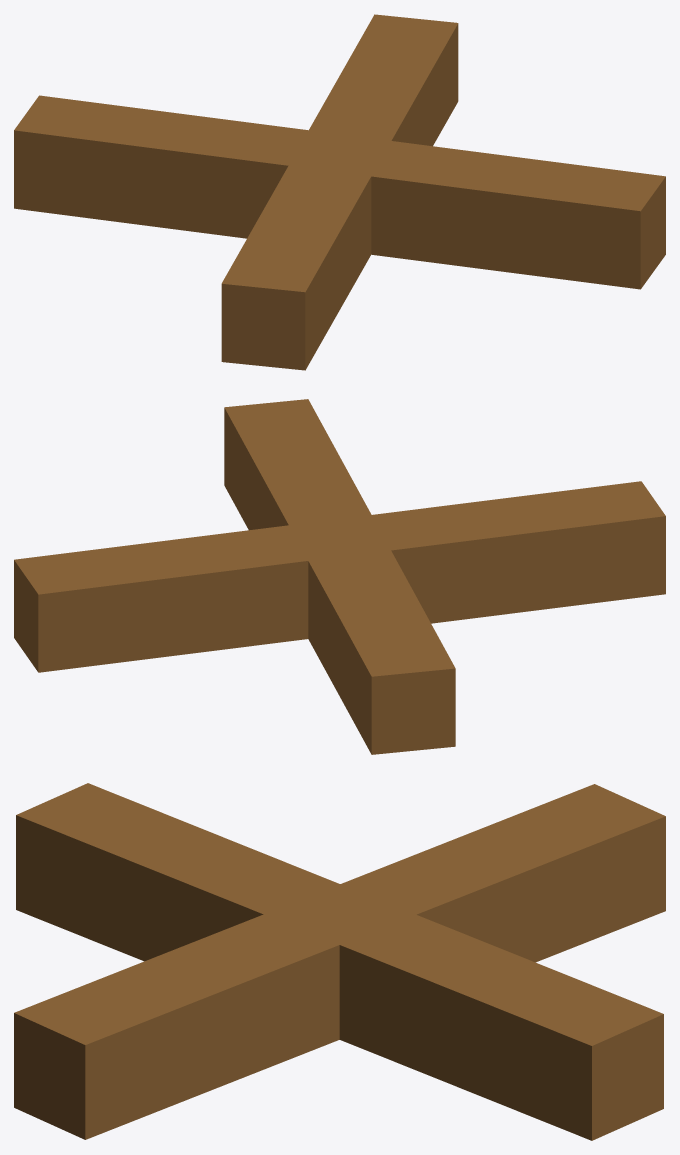
File: SM_hit effect.fbx
3 renders of one model, top to bottom at view 1: azimuth 30°, elevation 25°; view 2: azimuth 150°, elevation 25°; view 3: azimuth 270°, elevation 25°, orthographic. The views are drawn at different scales.
Parts seen in each view (by area): view 1: hit effect; view 2: hit effect; view 3: hit effect.
Boxes of the visible parts, x1,y1,x2,y2 form: hit effect: (14, 14, 665, 370); hit effect: (14, 399, 665, 754); hit effect: (14, 783, 665, 1140).
Size of the model in its own units: 85.21 by 14.32 by 89.24.
